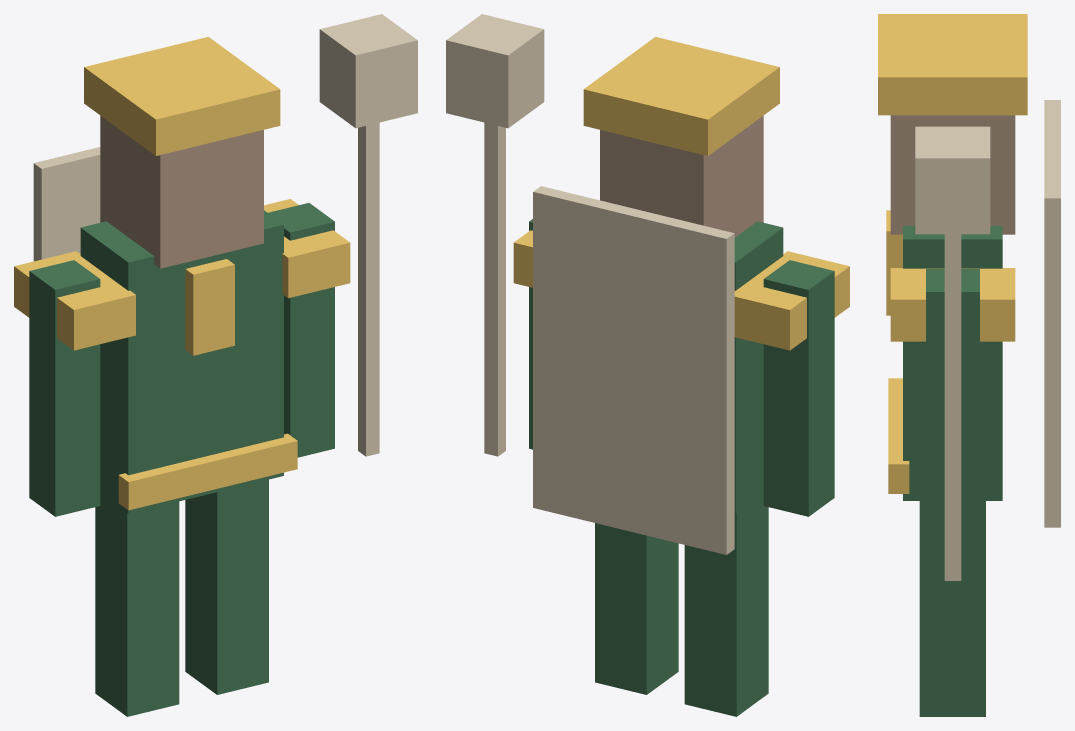
The model's file is 13_korra_deepwell_scout_from.glb.
3 renders of one model, left to right at view 1: azimuth 30°, elevation 25°; view 2: azimuth 150°, elevation 25°; view 3: azimuth 270°, elevation 25°, orthographic. The views are drawn at different scales.
Visible parts, largest first — view 1: Korra Deepwell, Scout from; view 2: Korra Deepwell, Scout from; view 3: Korra Deepwell, Scout from.
Part boxes in pixels (<box>): Korra Deepwell, Scout from: <box>14,14,417,716</box>; Korra Deepwell, Scout from: <box>446,14,849,716</box>; Korra Deepwell, Scout from: <box>878,14,1060,716</box>.
Bounding box in the file's own units: 0.9702 × 1.58 × 0.4125.
